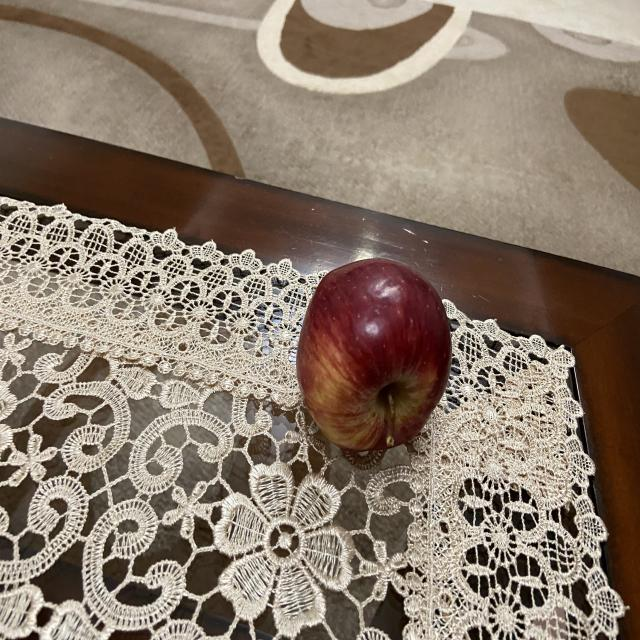apple: (294, 254, 456, 459)
